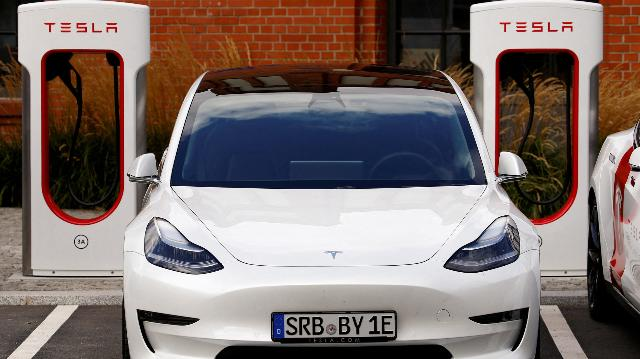tesla: (123, 62, 540, 359)
